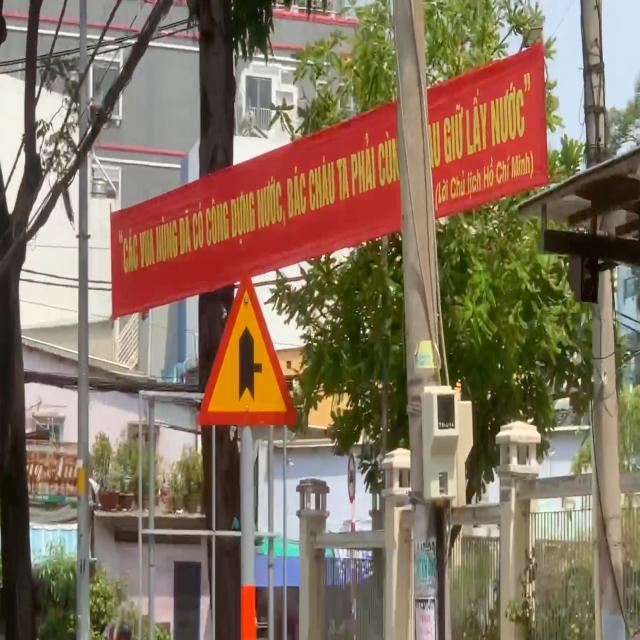Giao voi duong khong uu tien: (192, 263, 303, 441)
